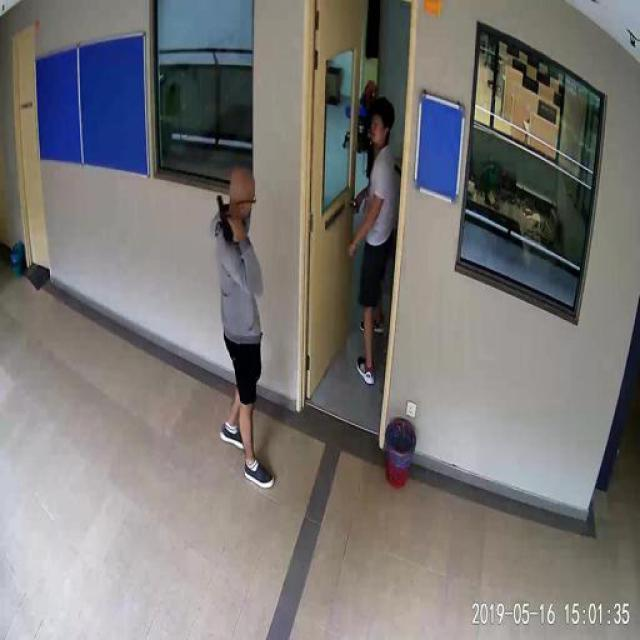weapon: (215, 194, 248, 246)
